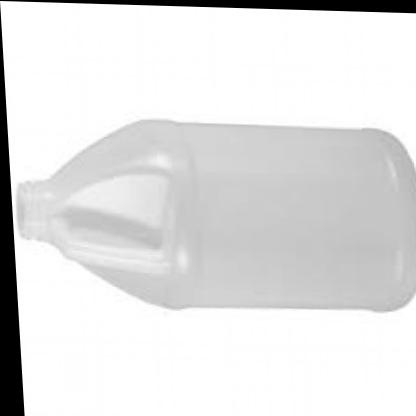trash: (17, 120, 415, 309)
